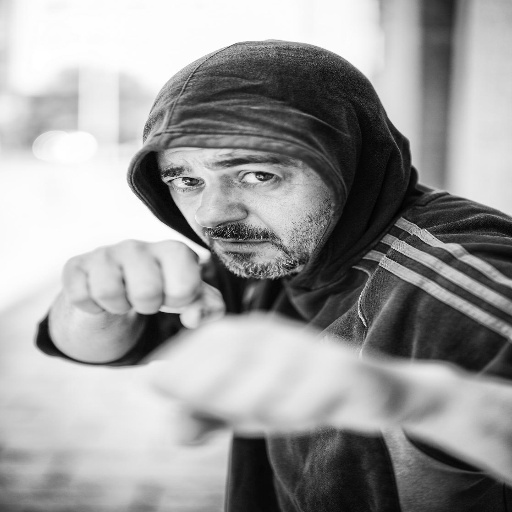hand: (136, 308, 426, 446), (57, 238, 225, 327)
